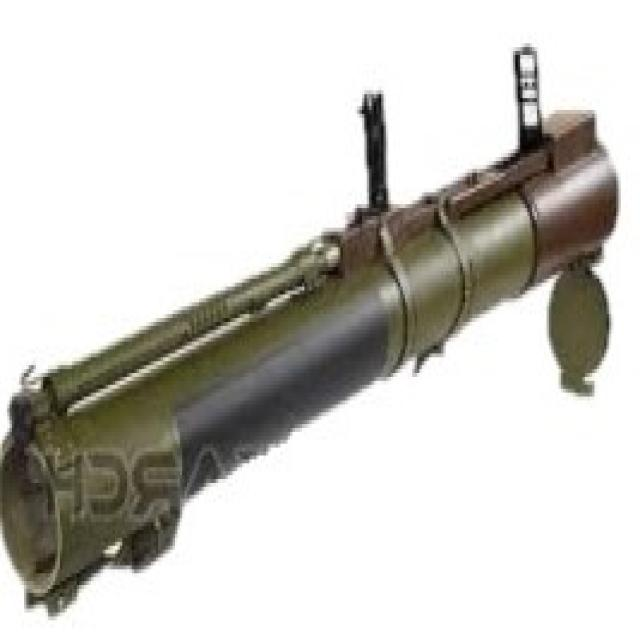bazooka: (1, 36, 619, 629)
